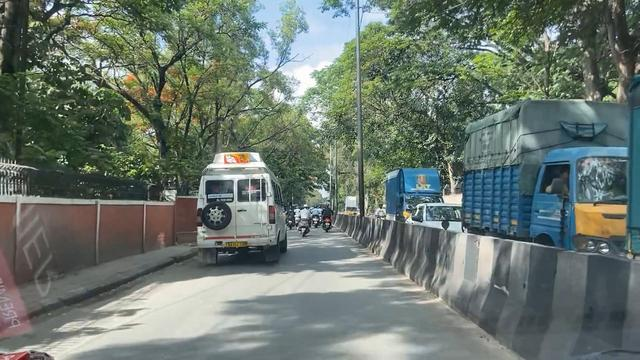HMV: (193, 154, 277, 258)
LMV: (297, 199, 314, 243), (324, 197, 334, 235)
